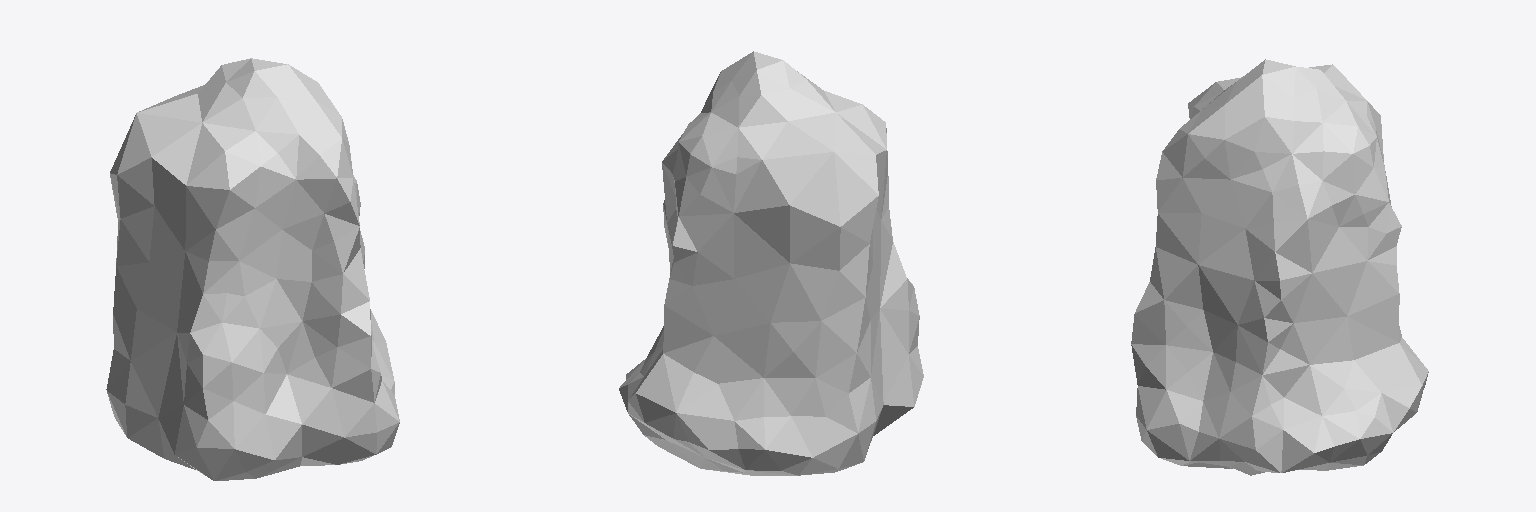
Rendered from rock-G.obj.
The picture shows the model from 3 angles: view 1: azimuth 30°, elevation 25°; view 2: azimuth 150°, elevation 25°; view 3: azimuth 270°, elevation 25°; orthographic projection.
Visible parts, largest first — view 1: RockSet05G; view 2: RockSet05G; view 3: RockSet05G.
Part boxes in pixels (left/top/right/bottom): RockSet05G: left=106, top=58, right=399, bottom=480; RockSet05G: left=619, top=51, right=923, bottom=475; RockSet05G: left=1131, top=59, right=1428, bottom=475.
Bounding box in the file's own units: 5.52 × 8.13 × 5.7.